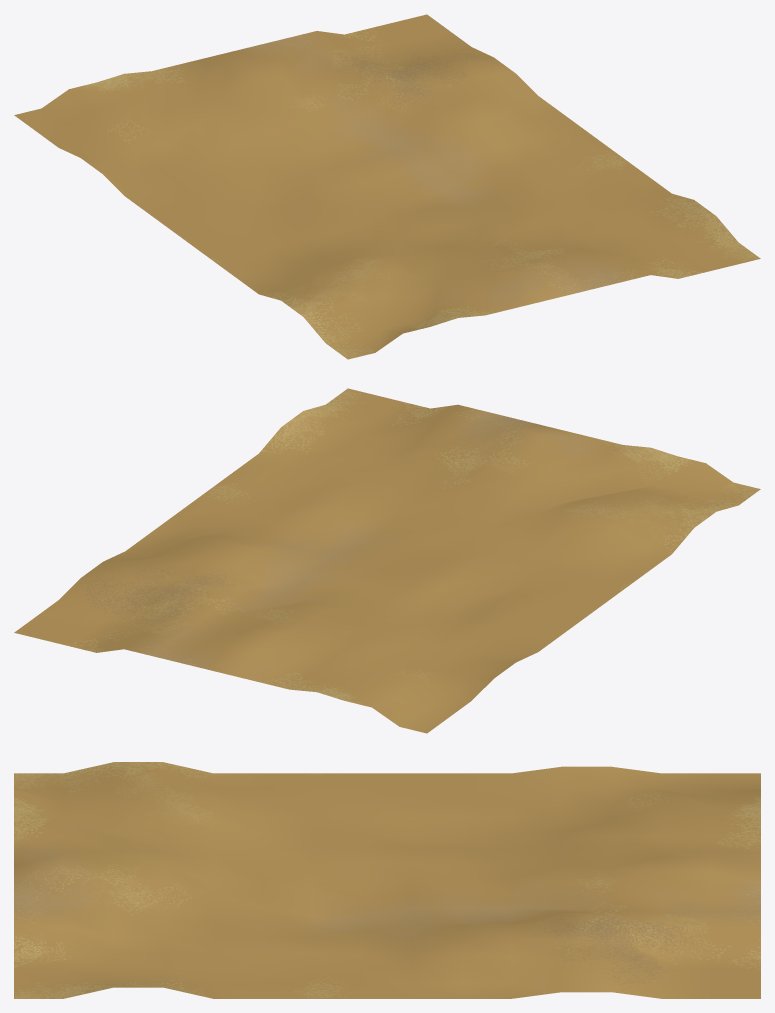
File: sand.glb
The picture shows the model from 3 angles, top to bottom: view 1: azimuth 30°, elevation 25°; view 2: azimuth 150°, elevation 25°; view 3: azimuth 270°, elevation 25°; orthographic projection. The views are drawn at different scales.
Parts seen in each view (by area): view 1: pPlane1; view 2: pPlane1; view 3: pPlane1.
Boxes of the visible parts, left/top/right/bottom form: pPlane1: left=14, top=14, right=760, bottom=359; pPlane1: left=14, top=388, right=760, bottom=733; pPlane1: left=14, top=762, right=760, bottom=998.
Size of the model in its own units: 2.79 by 0.1874 by 3.9.
1 material, 1 textured.
